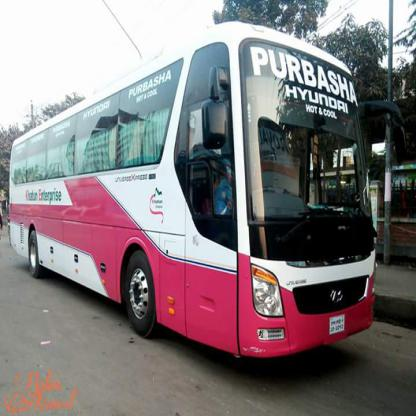bus: (6, 21, 371, 349)
